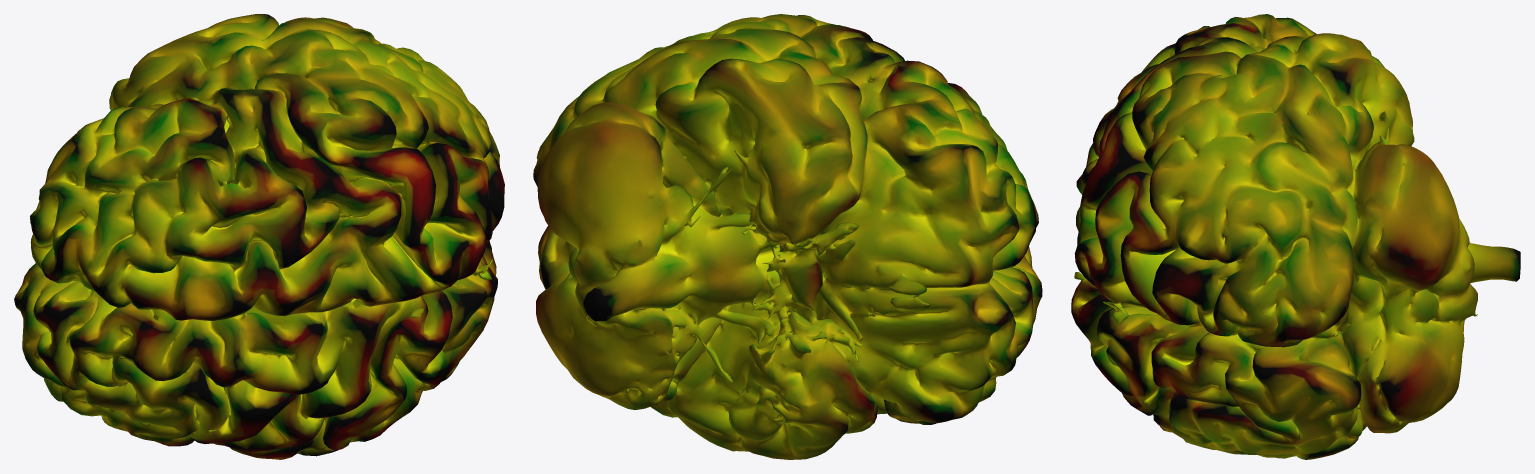
Rendered from brain.glb.
3 renders of one model, left to right at view 1: azimuth 30°, elevation 25°; view 2: azimuth 150°, elevation 25°; view 3: azimuth 270°, elevation 25°, orthographic. The views are drawn at different scales.
Visible parts, largest first — view 1: brain; view 2: brain; view 3: brain.
Part boxes in pixels (<box>): brain: <box>14,14,504,459</box>; brain: <box>533,14,1042,459</box>; brain: <box>1071,14,1520,459</box>.
Bounding box in the file's own units: 0.1677 × 0.133 × 0.1428.
